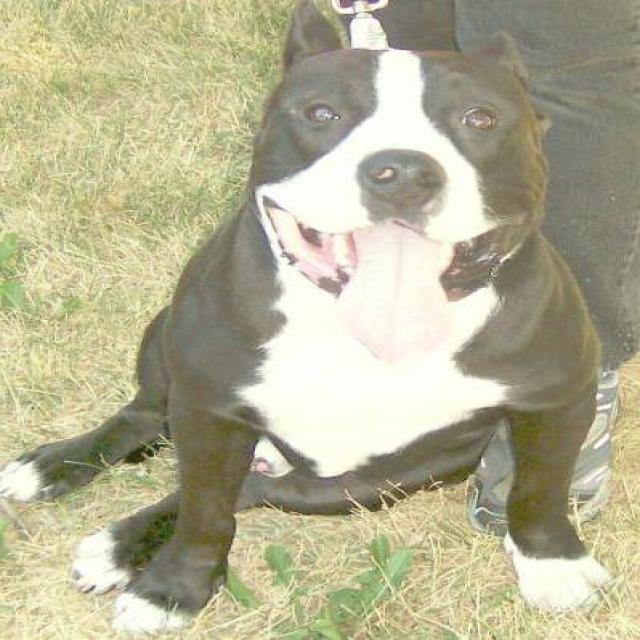dog: (0, 0, 618, 636)
